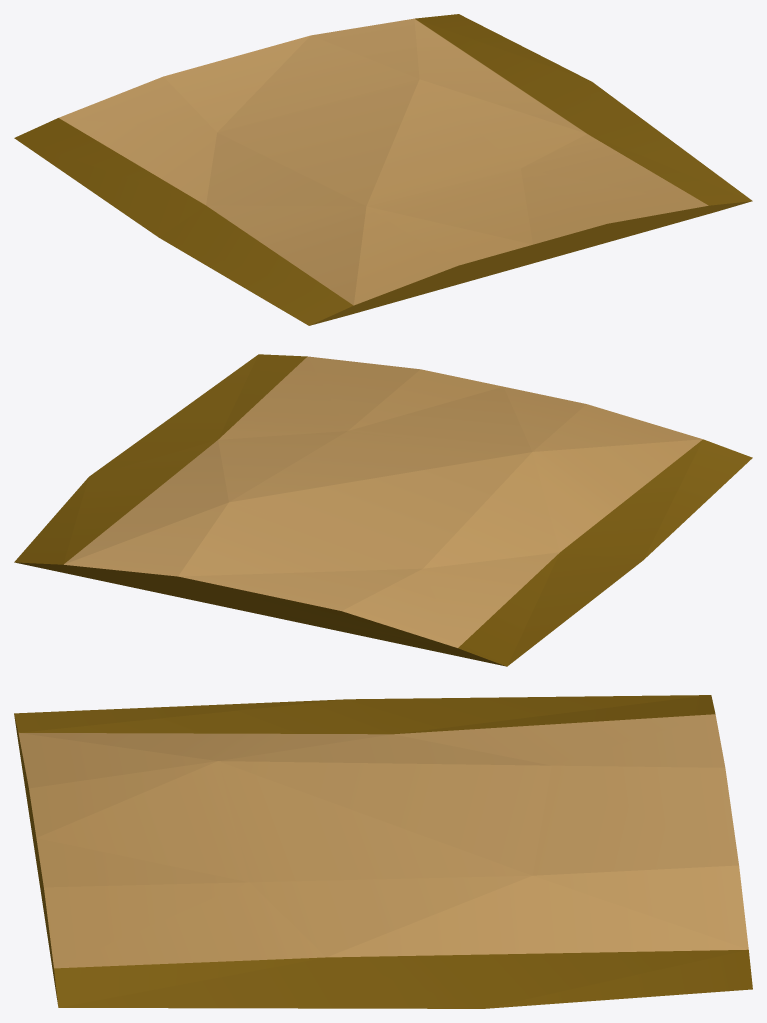
The model's file is Road_Straight_S.gltf.
3 renders of one model, top to bottom at view 1: azimuth 30°, elevation 25°; view 2: azimuth 150°, elevation 25°; view 3: azimuth 270°, elevation 25°, orthographic. The views are drawn at different scales.
Parts seen in each view (by area): view 1: Road_Straight_S; view 2: Road_Straight_S; view 3: Road_Straight_S.
Boxes of the visible parts, box(x1,y1,x2,y2) form: Road_Straight_S: box(14, 14, 752, 325); Road_Straight_S: box(14, 354, 752, 666); Road_Straight_S: box(14, 695, 752, 1008).
Bounding box in the file's own units: 3.19 × 0.1865 × 3.18.
1 material, 1 textured.
